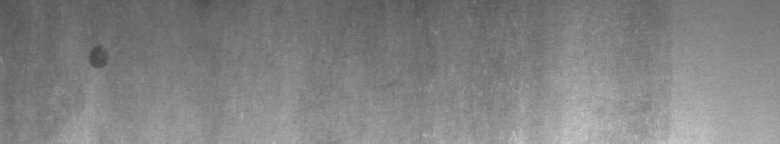fi: (84, 36, 113, 76)
